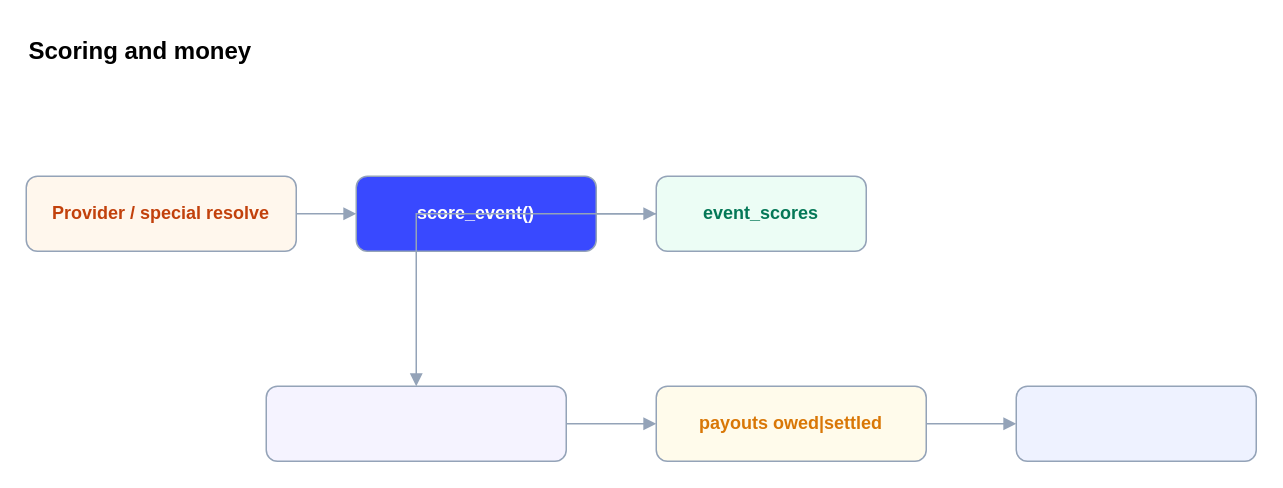
This 1283x488 diagram has some shape labels left out. The shapes that lost their labels are listed below. From the top down, each one's box as (x1, y1, x2, y2) in pixels, then its label:
(265, 385, 566, 461): close period / apply_split
(1015, 385, 1256, 461): Money tab /me/money
